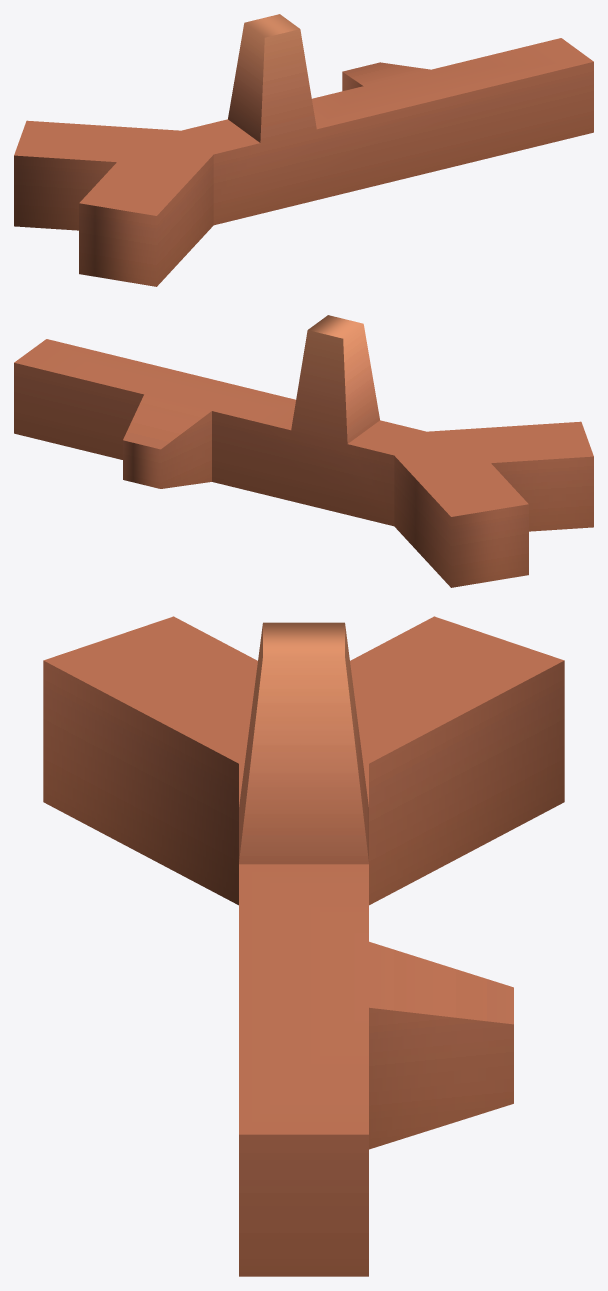
The model's file is k-survival-resource-wood.glb.
The picture shows the model from 3 angles, top to bottom: view 1: azimuth 30°, elevation 25°; view 2: azimuth 150°, elevation 25°; view 3: azimuth 270°, elevation 25°; orthographic projection. The views are drawn at different scales.
Parts seen in each view (by area): view 1: resource-wood; view 2: resource-wood; view 3: resource-wood.
Part boxes in pixels (box(x1,y1,x2,y2)): resource-wood: box(14, 14, 593, 286); resource-wood: box(14, 315, 593, 587); resource-wood: box(43, 616, 564, 1276).
Bounding box in the file's own units: 0.205 × 0.0624 × 0.0871.
1 material, 1 textured.
